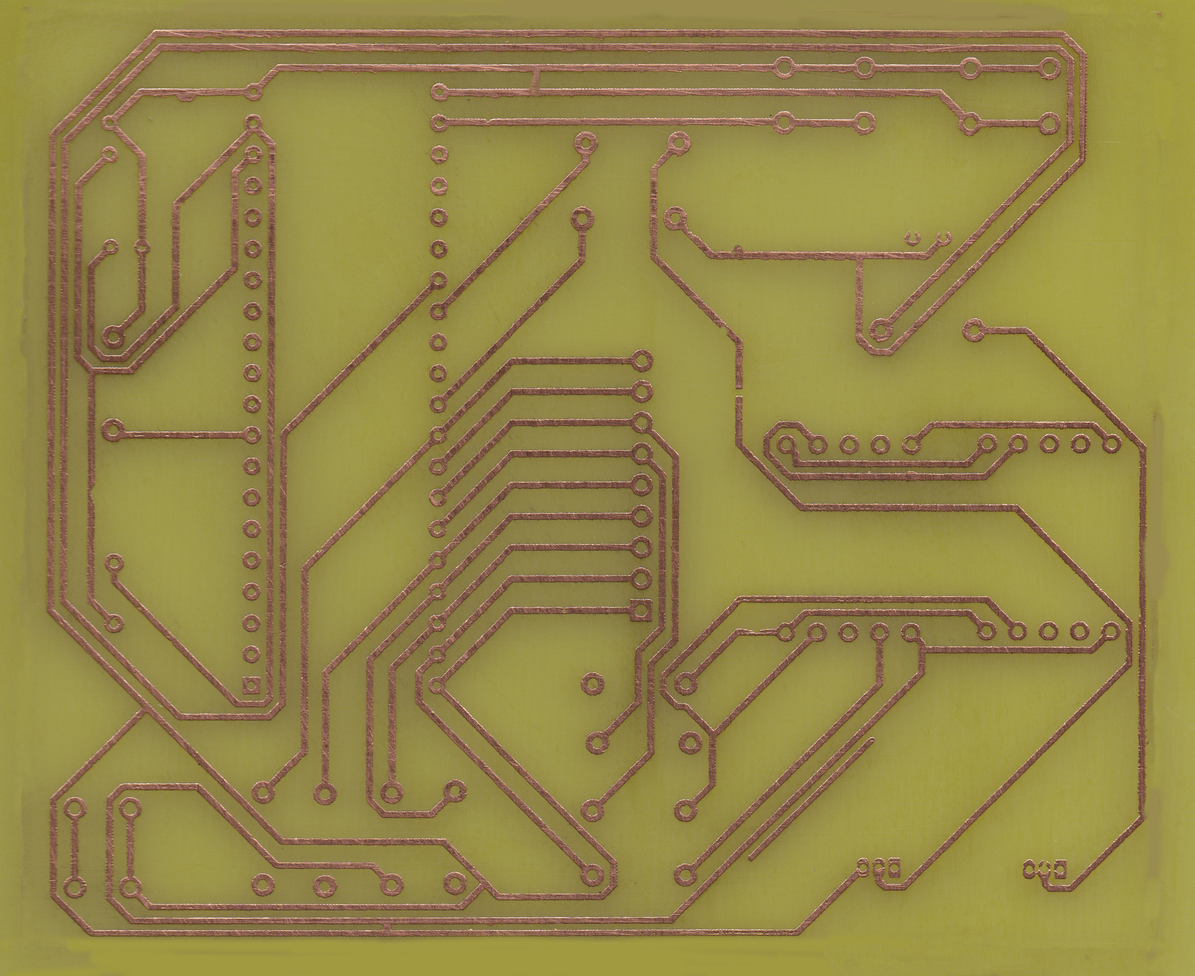missing_hole: (904, 230, 921, 247), (936, 231, 952, 247), (1038, 860, 1051, 879)
mouse_bite: (87, 480, 97, 505), (719, 324, 729, 336), (746, 628, 762, 634), (483, 118, 493, 124)
open_circuit: (735, 384, 743, 400)
short: (525, 64, 546, 96), (378, 917, 395, 936)
spur: (174, 89, 198, 103), (730, 244, 745, 259)
spurious_copper: (747, 737, 876, 862)
